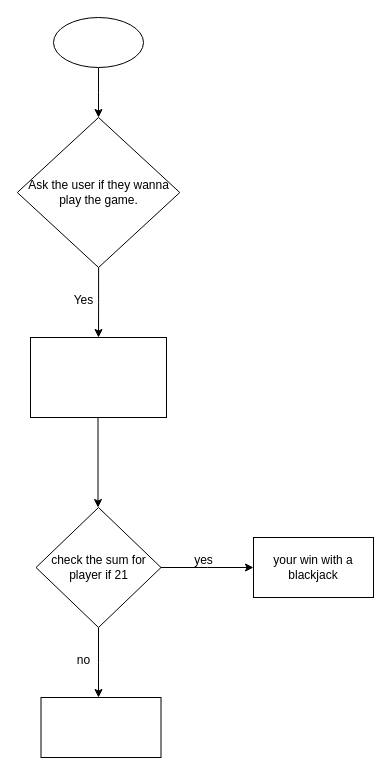
This 392x775 diagram has some shape labels left out. The shapes that lost their labels are listed below. From the top down, each one's centre as x and y in pixels, then its label:
At point (98, 42): "Start".
At point (98, 377): "pick 2 cards for player and dealer".
